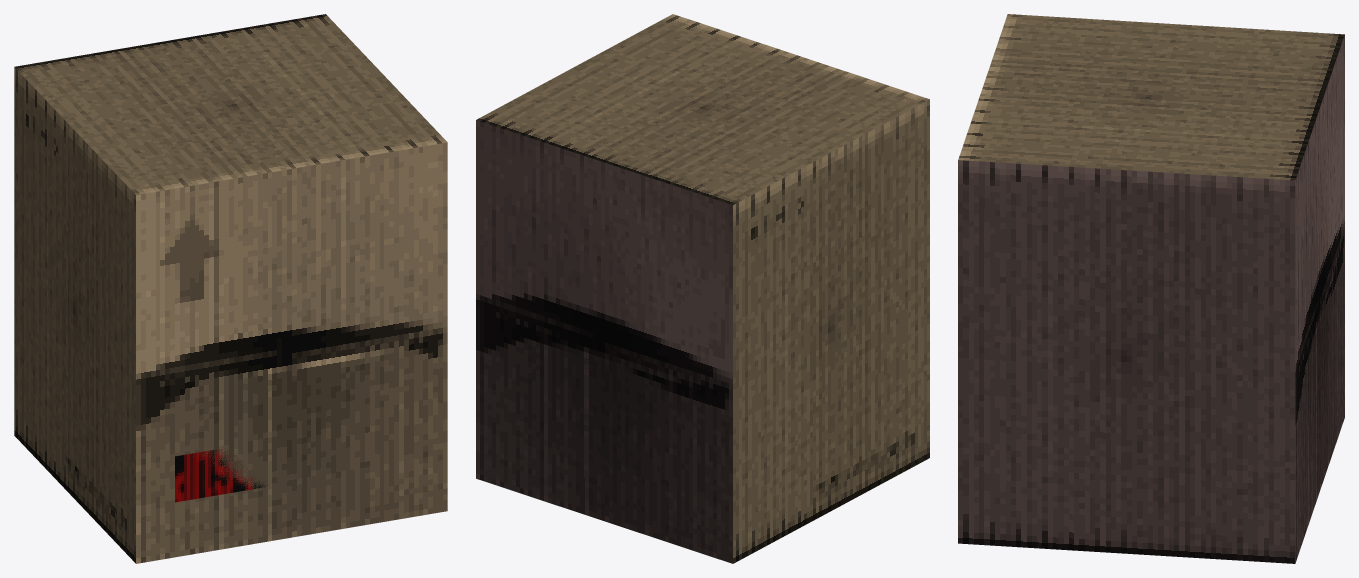
The model's file is primary_088.glb.
The picture shows the model from 3 angles, left to right: view 1: azimuth 30°, elevation 25°; view 2: azimuth 150°, elevation 25°; view 3: azimuth 270°, elevation 25°; orthographic projection. The views are drawn at different scales.
Parts seen in each view (by area): view 1: Object; view 2: Object; view 3: Object.
Part boxes in pixels (x1,y1,x2,y2): Object: [14, 14, 447, 563]; Object: [476, 14, 929, 563]; Object: [958, 14, 1344, 563].
Bounding box in the file's own units: 1.02 × 1.09 × 0.9996.
7 materials, 7 textured.
